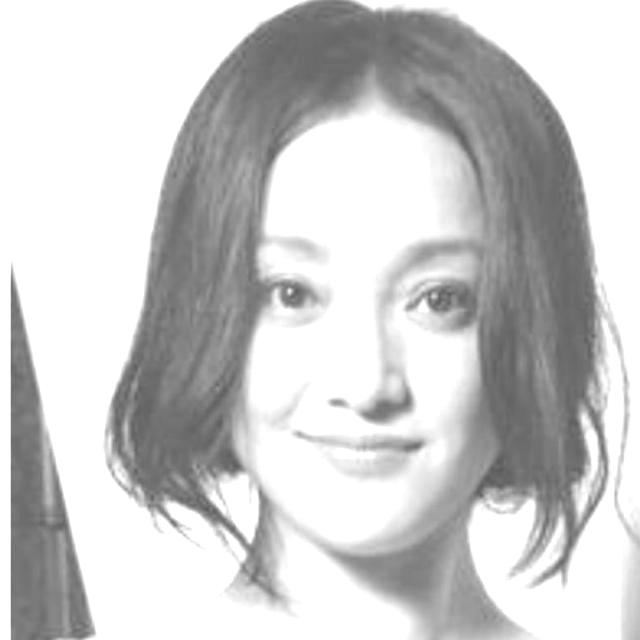real: (212, 86, 528, 574)
